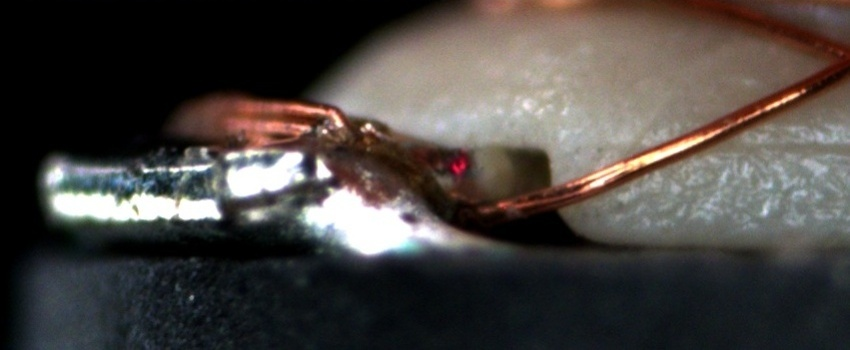CL: (805, 27, 850, 90)
DL: (593, 117, 849, 176)
TE: (169, 92, 355, 141)
